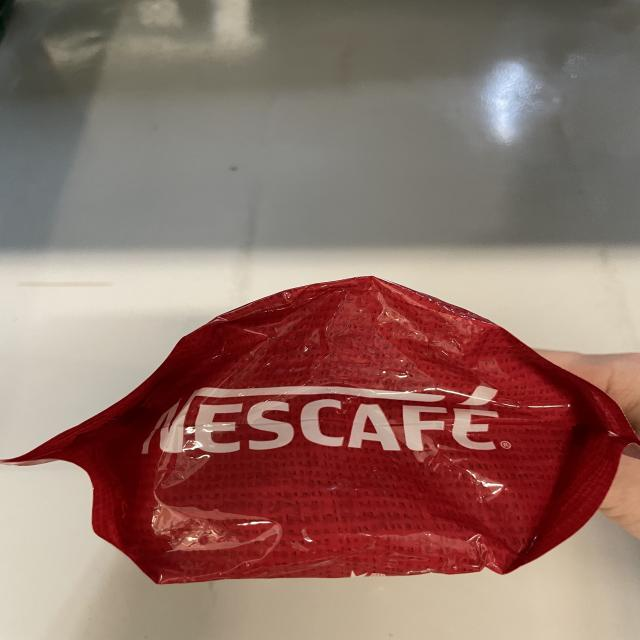object_name: (31, 294, 602, 577)
